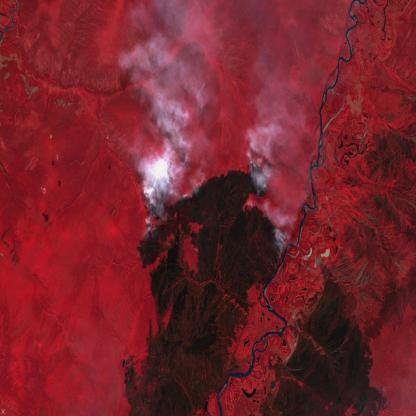fire: (132, 167, 288, 274)
